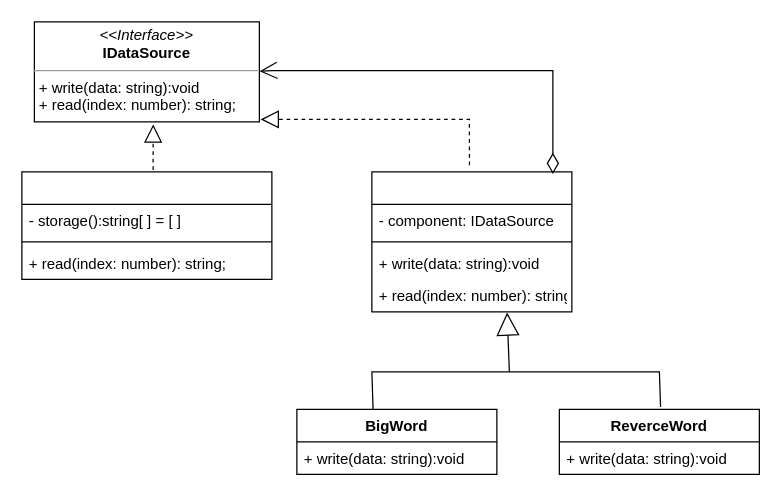
Some shapes in this 781 by 500 pixel diagram are drawn without their labels. The shapes that lost their labels are listed below. From the top down, each one's box as (x1, y1, x2, y2) in pixels, then its label:
(21, 171, 272, 279): DataStorage
(371, 171, 572, 312): WordDecorator
